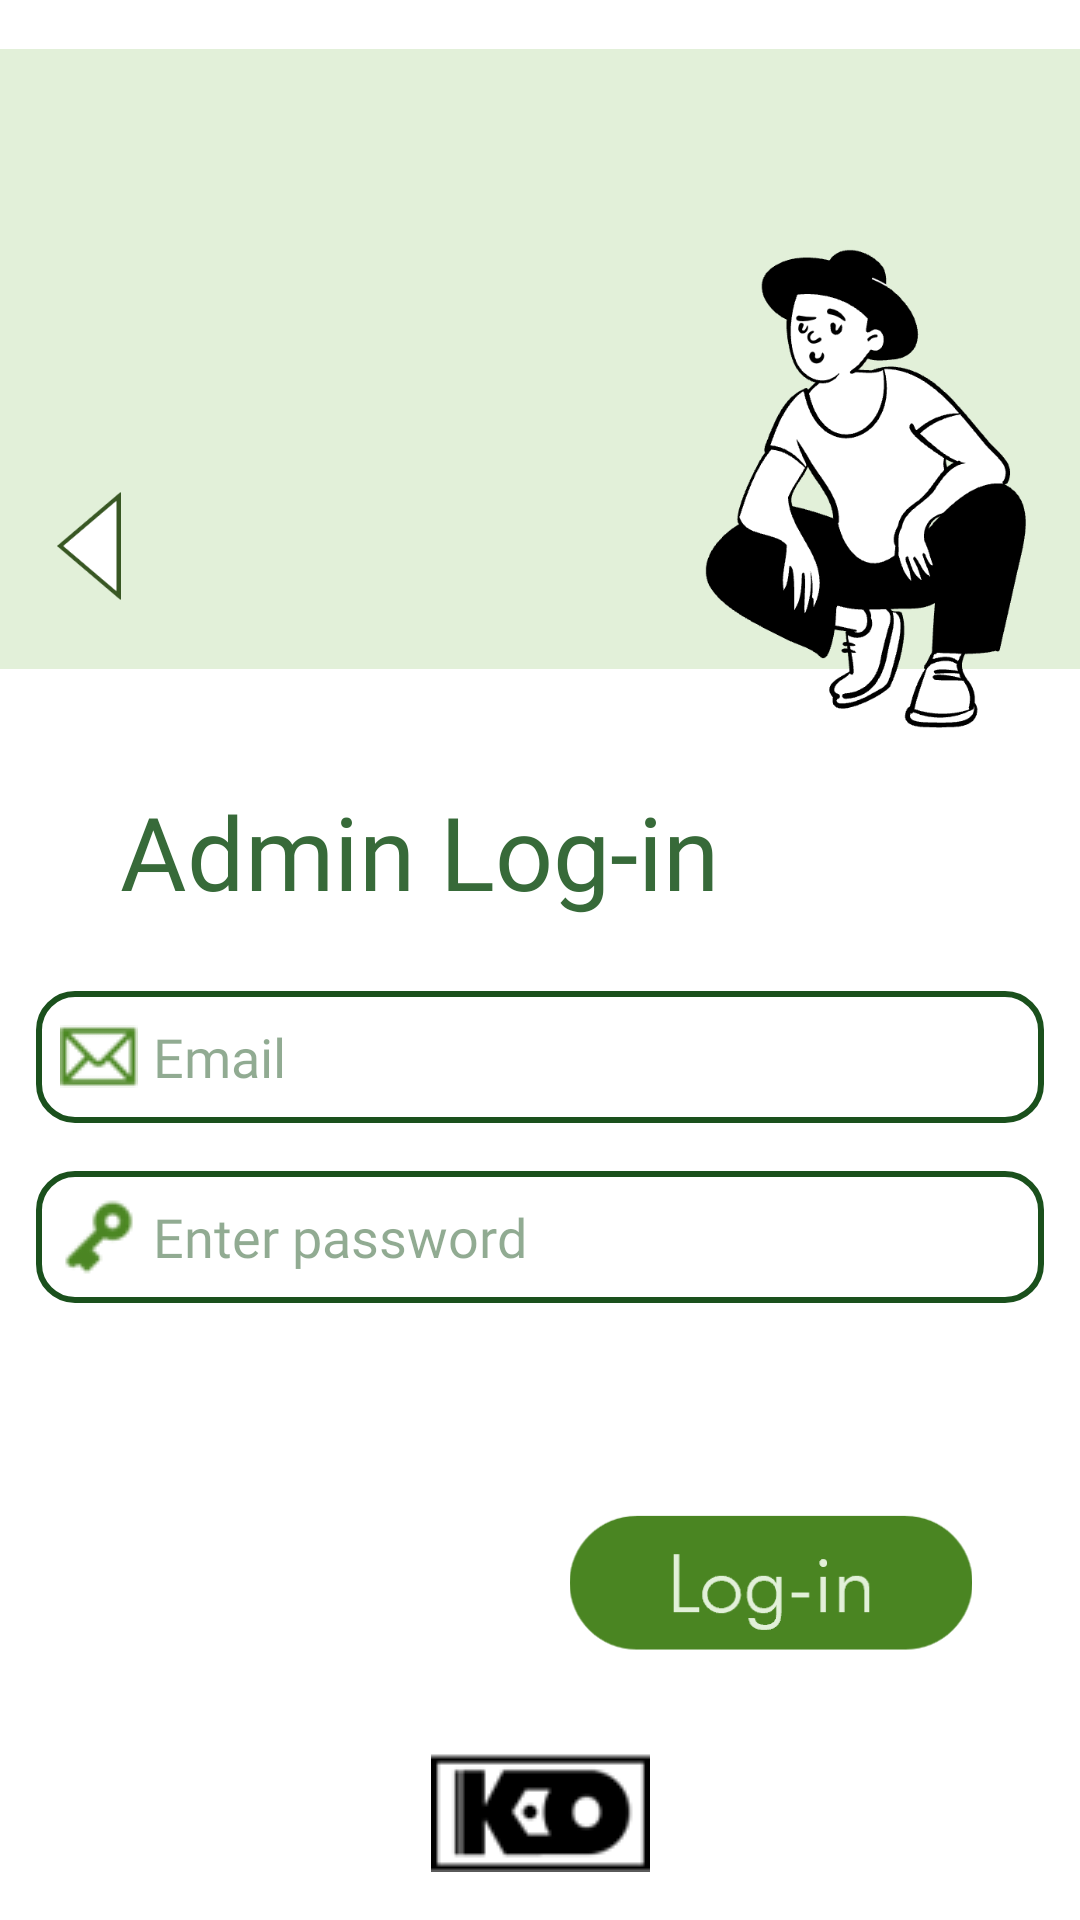

Icon click points for this 1080×1920 phone screenshot, format (x,y):
back: (89,546)
